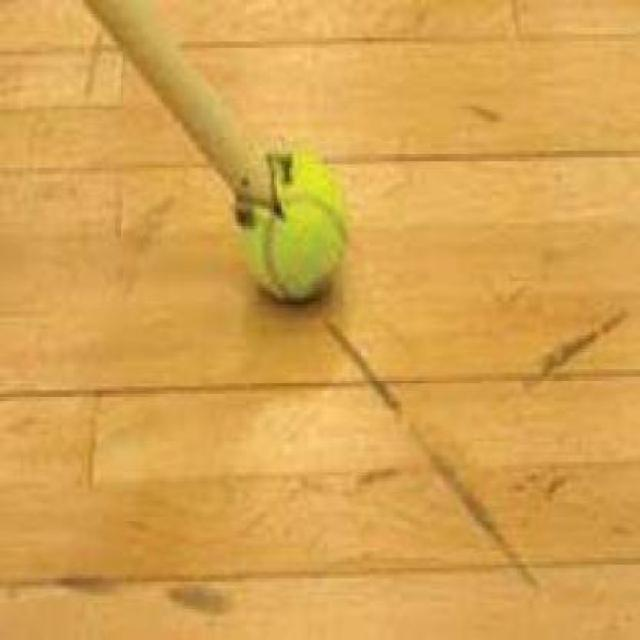Tennis_Ball: (240, 162, 337, 284)
